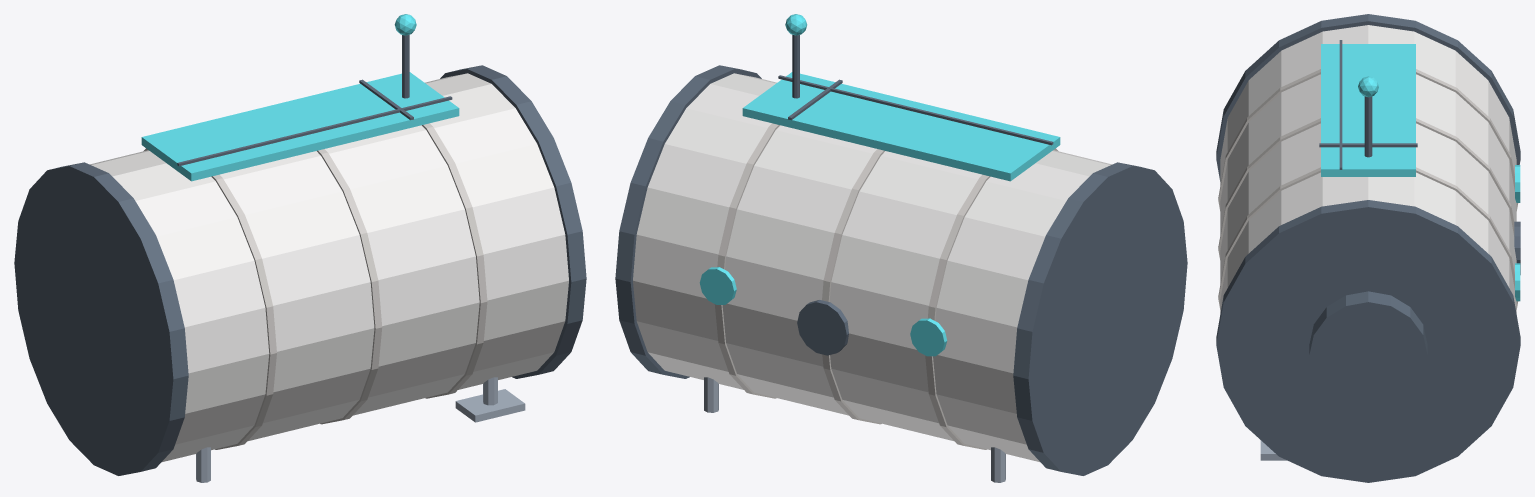
Rendered from habitat.glb.
3 views of the same model, side by side, from view 1: azimuth 30°, elevation 25°; view 2: azimuth 150°, elevation 25°; view 3: azimuth 270°, elevation 25° (orthographic). The views are drawn at different scales.
Visible parts, largest first — view 1: body, cap_-1, solar_panel, cap_1, pressure_rib_-0.55, pressure_rib_0.55, pressure_rib_0.0, foot_pad, solar_grid_z; view 2: body, cap_-1, solar_panel, cap_1, porthole, pressure_rib_-0.55, pressure_rib_0.55, pressure_rib_0.0, solar_grid_z, side_porthole_-0.55, side_porthole_0.55; view 3: cap_1, body, solar_panel, docking_collar, cap_-1, pressure_rib_0.55, pressure_rib_-0.55, pressure_rib_0.0, antenna_pole, solar_grid_z, solar_grid_x, antenna_tip.
Part boxes in pixels (x1=…): body: x1=89, y1=73, x2=568, y2=461; cap_-1: x1=14, y1=162, x2=188, y2=475; solar_panel: x1=141, y1=72, x2=459, y2=181; cap_1: x1=440, y1=65, x2=586, y2=378; pressure_rib_-0.55: x1=143, y1=148, x2=276, y2=449; pressure_rib_0.55: x1=422, y1=123, x2=487, y2=398; pressure_rib_0.0: x1=317, y1=149, x2=382, y2=424; foot_pad: x1=455, y1=389, x2=525, y2=422; solar_grid_z: x1=177, y1=96, x2=452, y2=166; body: x1=633, y1=73, x2=1112, y2=461; cap_-1: x1=1013, y1=162, x2=1187, y2=475; solar_panel: x1=742, y1=72, x2=1060, y2=181; cap_1: x1=615, y1=65, x2=761, y2=378; porthole: x1=797, y1=300, x2=848, y2=355; pressure_rib_-0.55: x1=925, y1=148, x2=1058, y2=449; pressure_rib_0.55: x1=714, y1=123, x2=779, y2=398; pressure_rib_0.0: x1=822, y1=149, x2=884, y2=424; solar_grid_z: x1=778, y1=75, x2=1053, y2=145; side_porthole_-0.55: x1=910, y1=318, x2=947, y2=356; side_porthole_0.55: x1=699, y1=267, x2=736, y2=304; cap_1: x1=1216, y1=200, x2=1520, y2=482; body: x1=1220, y1=25, x2=1516, y2=313; solar_panel: x1=1321, y1=44, x2=1415, y2=176; docking_collar: x1=1309, y1=291, x2=1427, y2=409; cap_-1: x1=1216, y1=14, x2=1520, y2=181; pressure_rib_0.55: x1=1218, y1=167, x2=1518, y2=309; pressure_rib_-0.55: x1=1218, y1=69, x2=1518, y2=210; pressure_rib_0.0: x1=1218, y1=118, x2=1514, y2=259; antenna_pole: x1=1364, y1=96, x2=1372, y2=157; solar_grid_z: x1=1339, y1=40, x2=1342, y2=169; solar_grid_x: x1=1319, y1=143, x2=1417, y2=147; antenna_tip: x1=1358, y1=76, x2=1378, y2=97.
Bounding box in the file's own units: 2.28 × 1.87 × 1.44.
